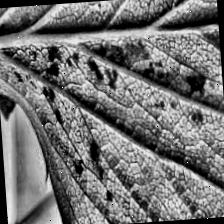Angular Leafspot: (0, 25, 224, 216)
